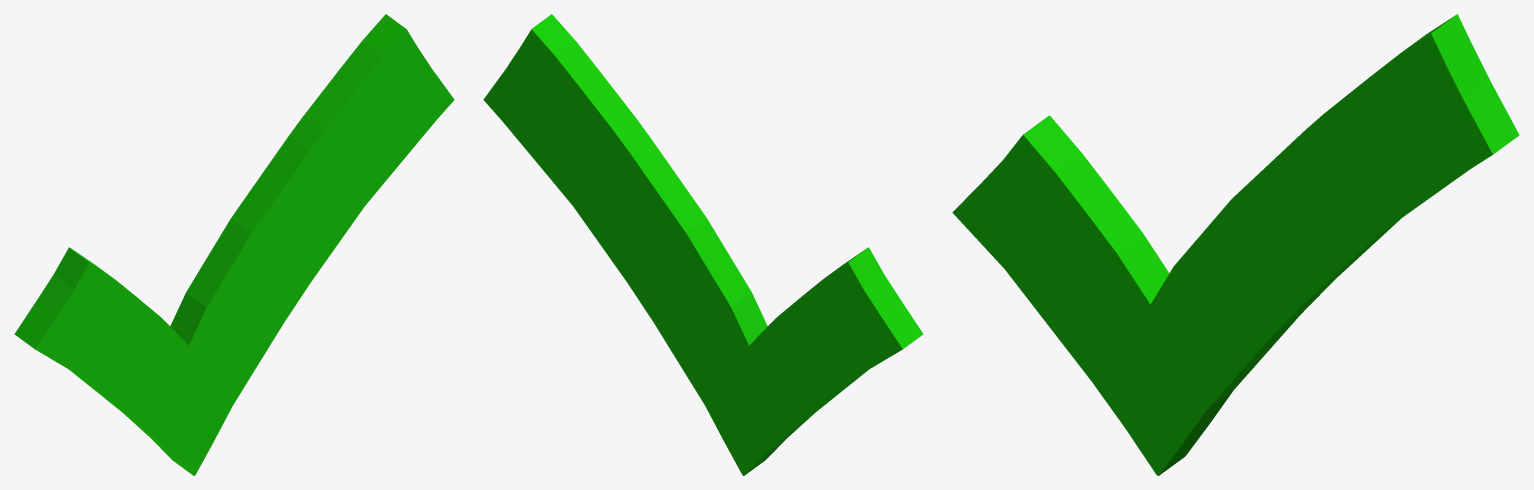
Rendered from check.fbx.
3 views of the same model, side by side, from view 1: azimuth 30°, elevation 25°; view 2: azimuth 150°, elevation 25°; view 3: azimuth 330°, elevation 25° (orthographic). The views are drawn at different scales.
Visible parts, largest first — view 1: Cube; view 2: Cube; view 3: Cube.
Boxes of the visible parts, box(x1,y1,x2,y2) form: Cube: box(14, 14, 454, 475); Cube: box(483, 14, 923, 475); Cube: box(952, 14, 1519, 475).
Bounding box in the file's own units: 995 × 895 × 84.93.
